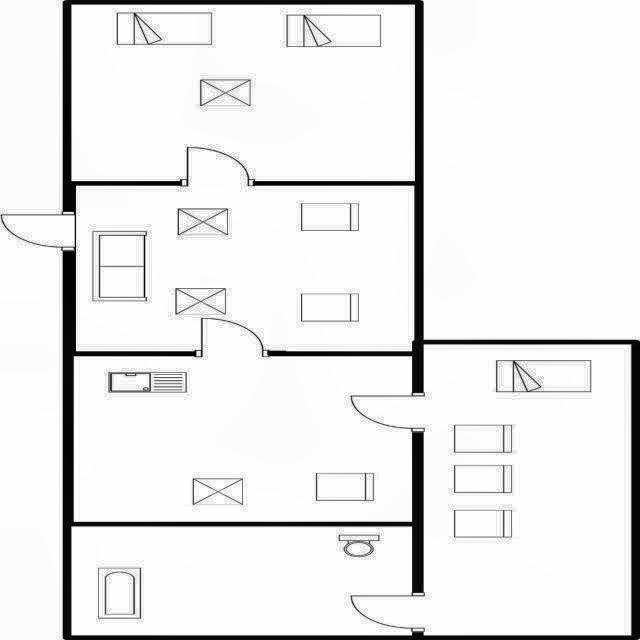room: (71, 5, 415, 181), (423, 344, 631, 635), (74, 356, 412, 522), (76, 186, 414, 351), (71, 526, 412, 635)
